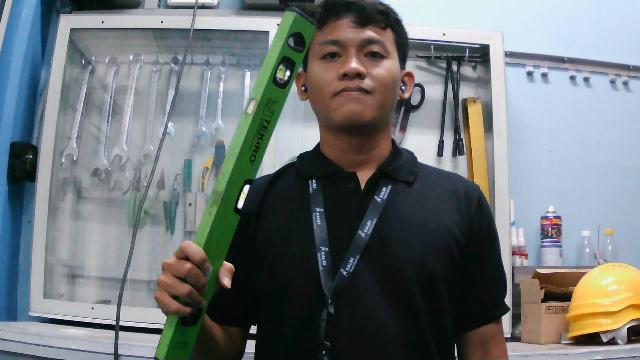water_pass: (151, 7, 317, 360)
